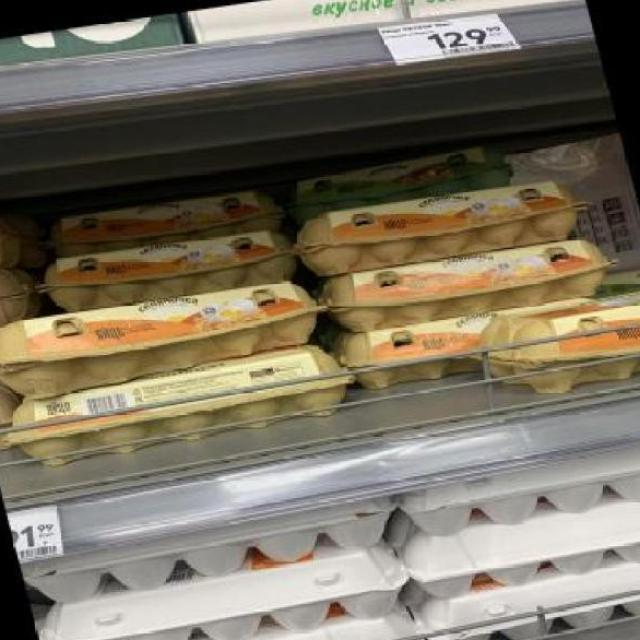Egg: (0, 274, 330, 402), (288, 173, 601, 280), (310, 234, 628, 337), (31, 223, 309, 318), (33, 181, 291, 261), (482, 293, 640, 400), (0, 260, 46, 333)
